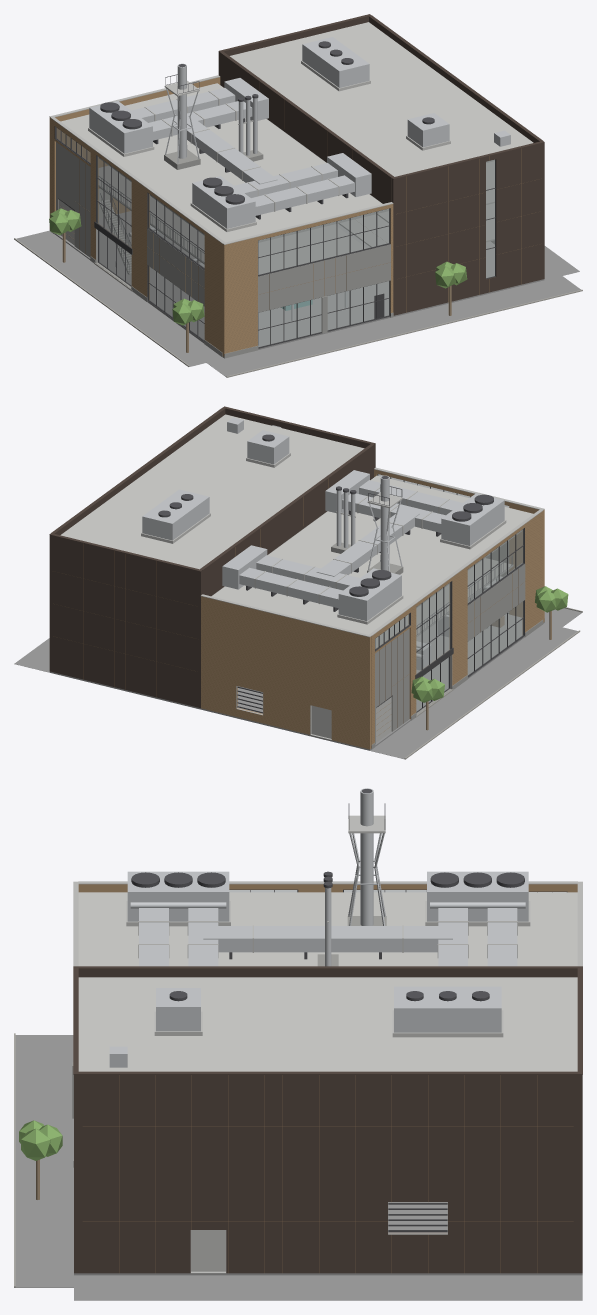
The model's file is clay-energy-centre-clay-v006.glb.
The picture shows the model from 3 angles, top to bottom: view 1: azimuth 30°, elevation 25°; view 2: azimuth 150°, elevation 25°; view 3: azimuth 270°, elevation 25°; orthographic projection. The views are drawn at different scales.
Visible parts, largest first — view 1: CLAY_MEMBRANE, CLAY_CORTEN, CLAY_FOUNDATION, CLAY_STEEL, CLAY_GLASS, CLAY_WALL, CLAY_CONCRETE, CLAY_FLOOR, CLAY_TRIM, CLAY_PALE, CLAY_HARDWARE, CLAY_JOINT (+2 smaller); view 2: CLAY_MEMBRANE, CLAY_CORTEN, CLAY_WALL, CLAY_STEEL, CLAY_FOUNDATION, CLAY_GLASS, CLAY_CONCRETE, CLAY_PALE, CLAY_JOINT, CLAY_TRIM, CLAY_HARDWARE, CLAY_FLOOR (+2 smaller); view 3: CLAY_CORTEN, CLAY_MEMBRANE, CLAY_STEEL, CLAY_FOUNDATION, CLAY_PALE, CLAY_HARDWARE, CLAY_JOINT, CLAY_WALL, CLAY_PLANTING.
Boxes of the visible parts, x1,y1,x2,y2 form: CLAY_MEMBRANE: [60, 22, 533, 242]; CLAY_CORTEN: [218, 14, 544, 315]; CLAY_FOUNDATION: [16, 211, 580, 377]; CLAY_STEEL: [89, 37, 510, 320]; CLAY_GLASS: [56, 128, 494, 346]; CLAY_WALL: [49, 77, 393, 356]; CLAY_CONCRETE: [51, 142, 393, 358]; CLAY_FLOOR: [98, 119, 494, 274]; CLAY_TRIM: [54, 126, 495, 348]; CLAY_PALE: [49, 60, 494, 274]; CLAY_HARDWARE: [99, 41, 434, 272]; CLAY_JOINT: [51, 82, 535, 351]; CLAY_MEMBRANE: [60, 414, 533, 634]; CLAY_CORTEN: [49, 406, 375, 708]; CLAY_WALL: [201, 469, 544, 749]; CLAY_STEEL: [142, 417, 504, 670]; CLAY_FOUNDATION: [14, 590, 581, 759]; CLAY_GLASS: [272, 425, 523, 711]; CLAY_CONCRETE: [331, 541, 544, 749]; CLAY_PALE: [141, 453, 544, 742]; CLAY_JOINT: [53, 478, 542, 747]; CLAY_TRIM: [271, 424, 524, 712]; CLAY_HARDWARE: [158, 434, 512, 713]; CLAY_FLOOR: [211, 511, 522, 648]; CLAY_CORTEN: [73, 966, 582, 1273]; CLAY_MEMBRANE: [78, 892, 577, 1071]; CLAY_STEEL: [109, 788, 528, 1067]; CLAY_FOUNDATION: [14, 1035, 582, 1300]; CLAY_PALE: [73, 815, 582, 1273]; CLAY_HARDWARE: [131, 789, 524, 1231]; CLAY_JOINT: [83, 1075, 573, 1272]; CLAY_WALL: [78, 884, 577, 892]; CLAY_PLANTING: [19, 1120, 62, 1160].
Bounding box in the file's own units: 44.1 × 22 × 38.03.
